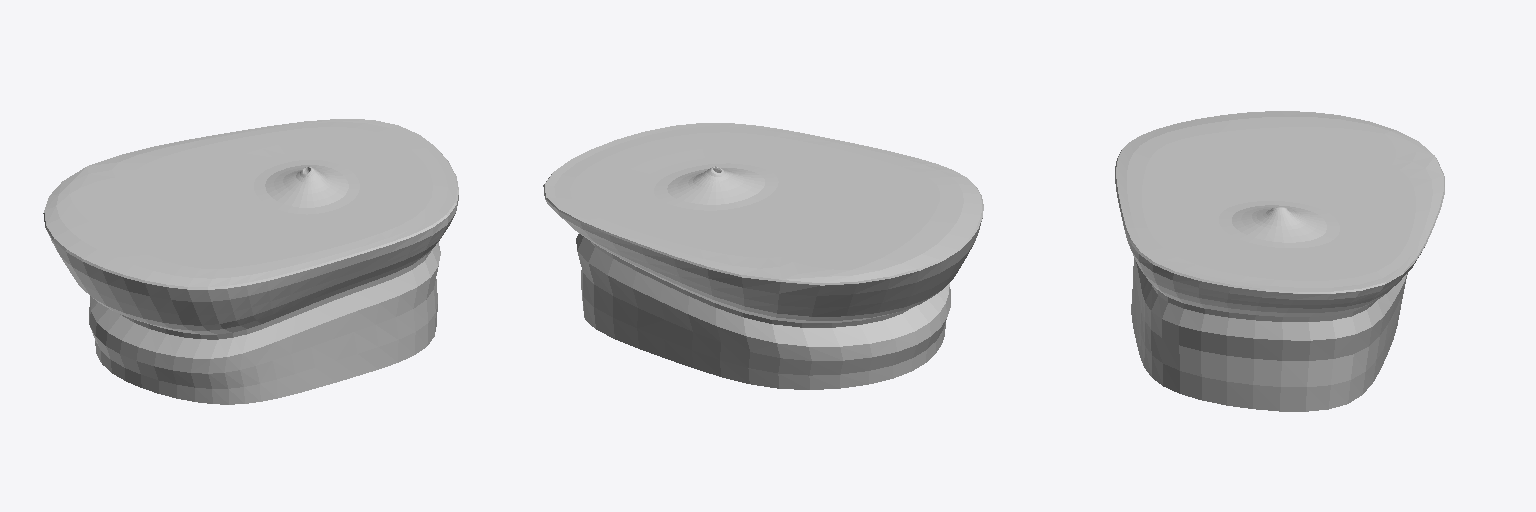
File: Rock_4.obj
3 views of the same model, side by side, from view 1: azimuth 30°, elevation 25°; view 2: azimuth 150°, elevation 25°; view 3: azimuth 270°, elevation 25° (orthographic).
Parts seen in each view (by area): view 1: Cube.010_Cube.011; view 2: Cube.010_Cube.011; view 3: Cube.010_Cube.011.
Boxes of the visible parts, x1=… form: Cube.010_Cube.011: x1=43, y1=119, x2=458, y2=404; Cube.010_Cube.011: x1=543, y1=123, x2=983, y2=389; Cube.010_Cube.011: x1=1115, y1=111, x2=1444, y2=411.
Bounding box in the file's own units: 97.84 × 36.97 × 73.44.